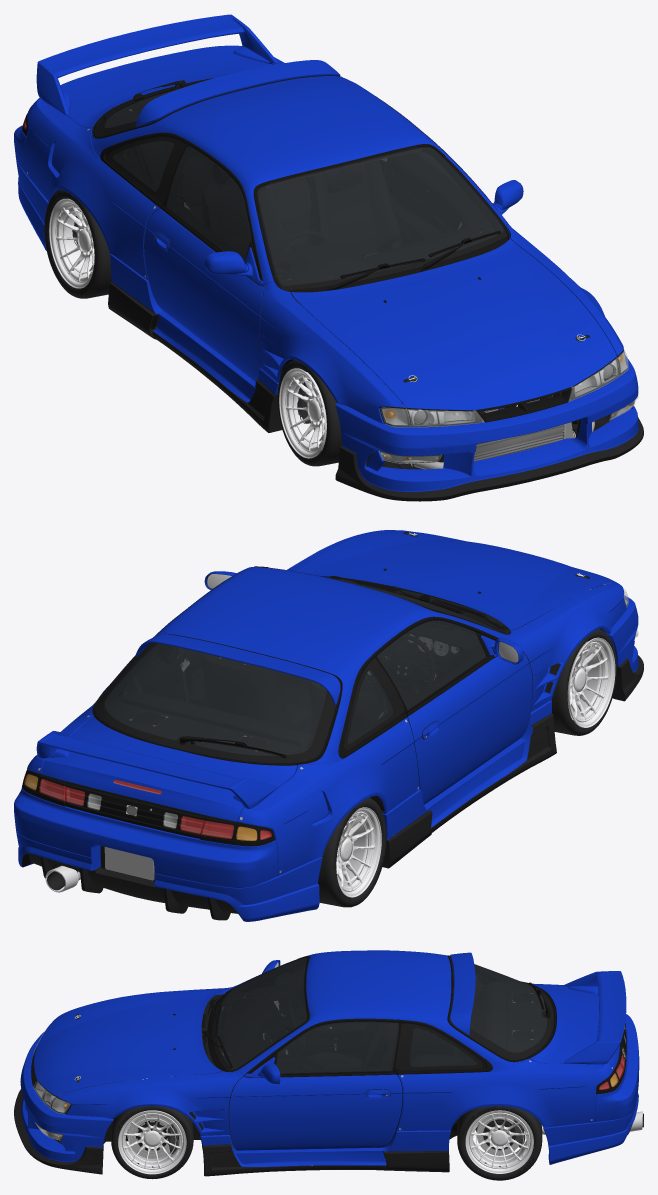
Rendered from silvia_s14_lite.glb.
3 views of the same model, one above another, from view 1: azimuth 30°, elevation 25°; view 2: azimuth 150°, elevation 25°; view 3: azimuth 270°, elevation 25° (orthographic). The views are drawn at different scales.
Parts seen in each view (by area): view 1: s14:M_CarPaint_Max, s14:M_Glass_WindowLeft_Max, s14:M_Interior_Max, s14:M_Opaque_PlasticRoughBlack_Max, s14:M_Glass_WindowSurround, s14:M_LGlass_InnerClear_Max, s14:M_Opaque_PlasticSmoothBlack_Max, Rim_FR, Rim_RR, s14:M_Chassis_Max, s14:M_LBucket_SetST_Max, polySurface36 (+1 smaller); view 2: s14:M_CarPaint_Max, s14:M_Glass_WindowLeft_Max, s14:M_Interior_Max, s14:M_Glass_WindowSurround, s14:M_Opaque_PlasticRoughBlack_Max, s14:M_Opaque_PlasticSmoothBlack_Max, Rim_FR, Rim_RR, s14:M_LGlass_InnerClear_Max, s14:M_LBucket_Max, polySurface36, polySurface30 (+5 smaller); view 3: s14:M_CarPaint_Max, s14:M_Glass_WindowLeft_Max, s14:M_Interior_Max, s14:M_Glass_WindowSurround, Rim_RL, Rim_FL, s14:M_Opaque_PlasticSmoothBlack_Max, polySurface35, s14:M_Opaque_PlasticRoughBlack_Max, polySurface15, s14:M_LGlass_InnerClear_Max, polySurface2 (+6 smaller).
Part boxes in pixels (x1,y1,x2,y2): s14:M_CarPaint_Max: [14, 14, 643, 501]; s14:M_Glass_WindowLeft_Max: [104, 88, 503, 285]; s14:M_Interior_Max: [105, 91, 502, 367]; s14:M_Opaque_PlasticRoughBlack_Max: [151, 144, 623, 423]; s14:M_Glass_WindowSurround: [96, 79, 507, 290]; s14:M_LGlass_InnerClear_Max: [23, 117, 638, 463]; s14:M_Opaque_PlasticSmoothBlack_Max: [92, 75, 616, 411]; Rim_FR: [279, 368, 326, 458]; Rim_RR: [49, 198, 94, 288]; s14:M_Chassis_Max: [55, 189, 612, 469]; s14:M_LBucket_SetST_Max: [381, 350, 627, 426]; polySurface36: [44, 189, 111, 298]; s14:M_CarPaint_Max: [14, 530, 643, 921]; s14:M_Glass_WindowLeft_Max: [104, 576, 500, 755]; s14:M_Interior_Max: [105, 599, 489, 789]; s14:M_Glass_WindowSurround: [96, 619, 503, 762]; s14:M_Opaque_PlasticRoughBlack_Max: [65, 566, 623, 838]; s14:M_Opaque_PlasticSmoothBlack_Max: [92, 568, 498, 765]; Rim_FR: [567, 637, 615, 727]; Rim_RR: [336, 807, 381, 897]; s14:M_LGlass_InnerClear_Max: [23, 588, 638, 840]; s14:M_LBucket_Max: [23, 774, 271, 840]; polySurface36: [318, 797, 386, 907]; polySurface30: [551, 629, 616, 735]; s14:M_CarPaint_Max: [14, 950, 639, 1176]; s14:M_Glass_WindowLeft_Max: [217, 958, 547, 1073]; s14:M_Interior_Max: [218, 959, 546, 1147]; s14:M_Glass_WindowSurround: [212, 956, 553, 1071]; Rim_RL: [465, 1110, 533, 1173]; Rim_FL: [118, 1110, 186, 1174]; s14:M_Opaque_PlasticSmoothBlack_Max: [37, 955, 556, 1096]; polySurface35: [457, 1106, 542, 1180]; s14:M_Opaque_PlasticRoughBlack_Max: [31, 956, 626, 1163]; polySurface15: [111, 1106, 193, 1179]; s14:M_LGlass_InnerClear_Max: [33, 1028, 625, 1140]; polySurface2: [127, 1116, 170, 1158].
Bounding box in the file's own units: 1.96 × 1.21 × 4.53.
25 materials, 10 textured.
